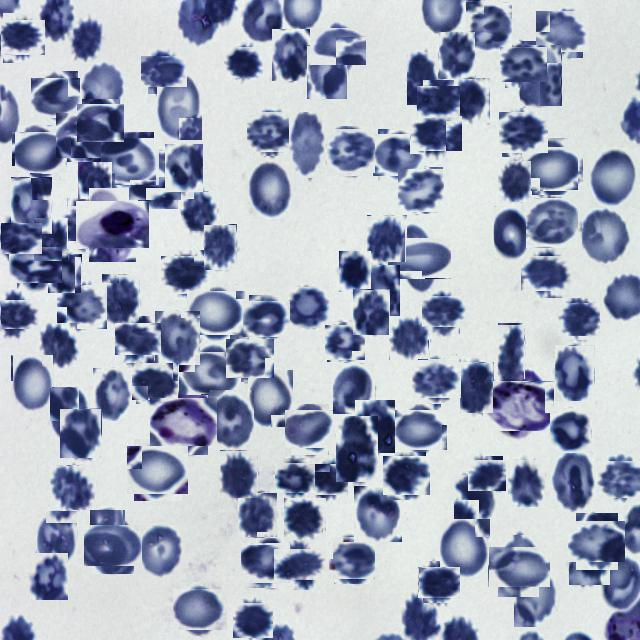red blood cell: (157, 71, 203, 140), (130, 442, 186, 498), (440, 518, 491, 579), (578, 206, 630, 264), (589, 147, 638, 208), (526, 142, 580, 195), (183, 346, 237, 399), (527, 197, 581, 250), (104, 135, 157, 188), (394, 232, 446, 286), (336, 416, 378, 482), (550, 451, 596, 511), (492, 540, 544, 592), (354, 486, 402, 542), (248, 369, 294, 427), (190, 288, 242, 339), (289, 111, 328, 178), (248, 161, 293, 219), (520, 44, 562, 106), (514, 568, 558, 627), (210, 390, 254, 448), (155, 310, 201, 365), (88, 520, 138, 570), (464, 2, 514, 52), (572, 516, 622, 566), (57, 111, 107, 160), (15, 128, 64, 177), (11, 355, 53, 412), (133, 156, 182, 204), (11, 177, 52, 234), (176, 585, 224, 633), (538, 8, 586, 56), (34, 75, 82, 122), (58, 284, 105, 332), (37, 510, 78, 565), (80, 63, 124, 114), (555, 345, 595, 401), (139, 525, 182, 577), (307, 45, 348, 99), (315, 23, 362, 70), (326, 128, 374, 174), (272, 29, 314, 81), (50, 387, 90, 441), (333, 363, 375, 414), (355, 400, 395, 453), (376, 132, 422, 178), (60, 408, 102, 458), (398, 408, 444, 453), (500, 110, 546, 155), (50, 465, 96, 510), (93, 368, 132, 421), (286, 285, 331, 330), (13, 242, 58, 287), (399, 168, 444, 213), (244, 540, 288, 586), (494, 206, 530, 261), (288, 407, 332, 452), (414, 356, 458, 401), (228, 336, 272, 381), (414, 111, 458, 156), (569, 537, 610, 585), (164, 254, 208, 298), (248, 110, 292, 154), (550, 408, 594, 452), (454, 474, 497, 519), (90, 509, 126, 562), (102, 274, 140, 324), (385, 454, 428, 498), (63, 202, 107, 245), (389, 314, 430, 360), (366, 215, 406, 262), (524, 252, 568, 294), (238, 492, 278, 538), (364, 265, 400, 316), (451, 78, 490, 125), (29, 553, 68, 600), (220, 450, 258, 498), (508, 459, 546, 507), (165, 144, 203, 192), (0, 16, 42, 59), (332, 540, 374, 582), (134, 360, 176, 402), (284, 498, 326, 540), (279, 543, 321, 585), (246, 298, 288, 340), (80, 102, 122, 144), (502, 44, 544, 86), (599, 457, 640, 500), (460, 362, 494, 413), (353, 289, 390, 335), (439, 32, 475, 79), (407, 52, 438, 105), (118, 320, 158, 360), (0, 217, 37, 260), (42, 323, 77, 367), (144, 52, 183, 91), (180, 191, 218, 231), (424, 292, 464, 330), (204, 224, 237, 270), (498, 324, 525, 379), (560, 300, 598, 338), (420, 83, 458, 121), (326, 323, 364, 361), (234, 601, 272, 639), (34, 218, 68, 260), (498, 160, 532, 202), (70, 16, 102, 59), (420, 564, 457, 601), (0, 295, 35, 334), (48, 254, 82, 293), (339, 251, 371, 292), (310, 462, 346, 498), (225, 44, 261, 80), (276, 460, 312, 496), (78, 162, 112, 199), (470, 458, 504, 492)
trophozoite: (488, 375, 549, 436), (82, 194, 142, 256), (154, 392, 212, 450)
